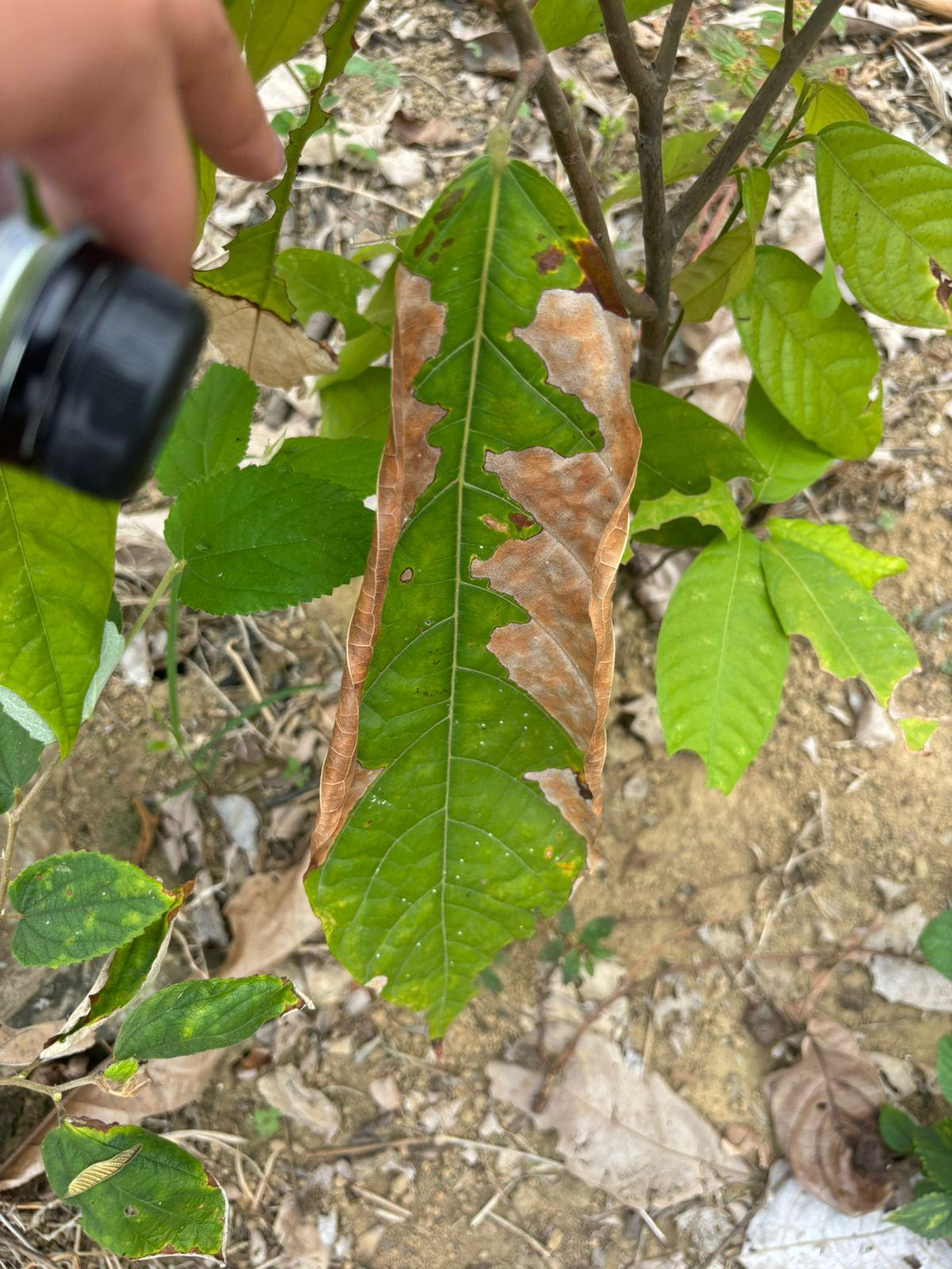deficiencia_potasio: (305, 141, 638, 1035)
